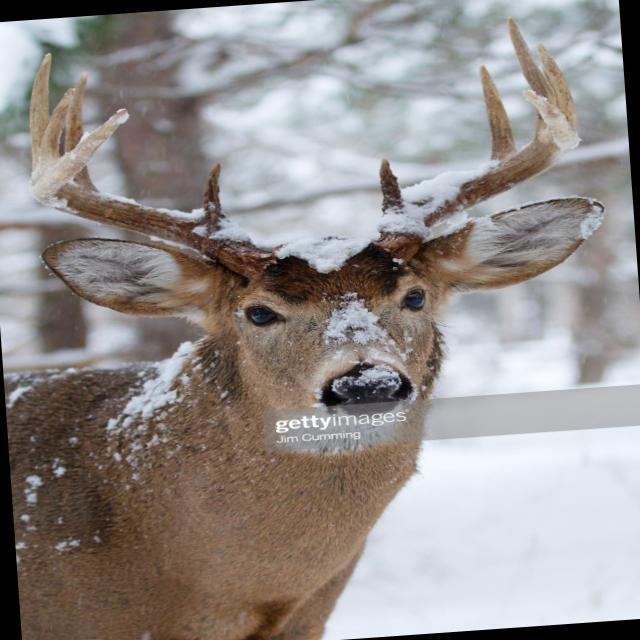L-F: (374, 88, 580, 264)
L-G1: (379, 157, 408, 225)
L-G2: (479, 64, 519, 168)
R-F: (29, 109, 283, 279)
R-G1: (201, 162, 230, 224)
R-G4: (36, 88, 73, 174)
